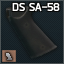SA-58 pistol grip: (0, 0, 64, 64)
